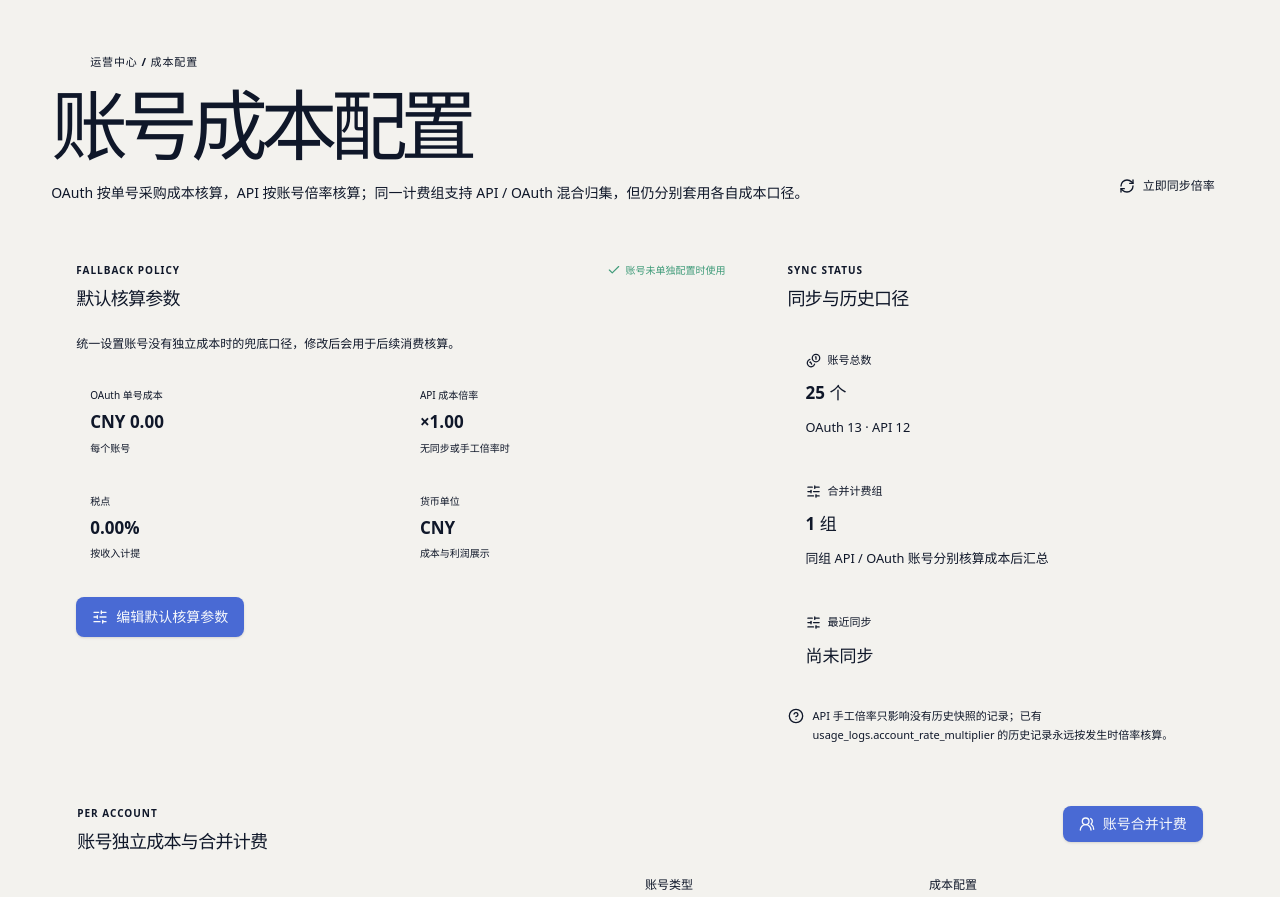
Test: 成本配置列表 › 默认核算参数通过弹窗编辑，取消不会改动已保存摘要
This screenshot has width=1280, height=897.
Expected: the text "CNY 0.00" is shown, 90,410 -> 164,433
Click the button "编辑默认核算参数". click: (160, 617)
box: 76,597 -> 244,637
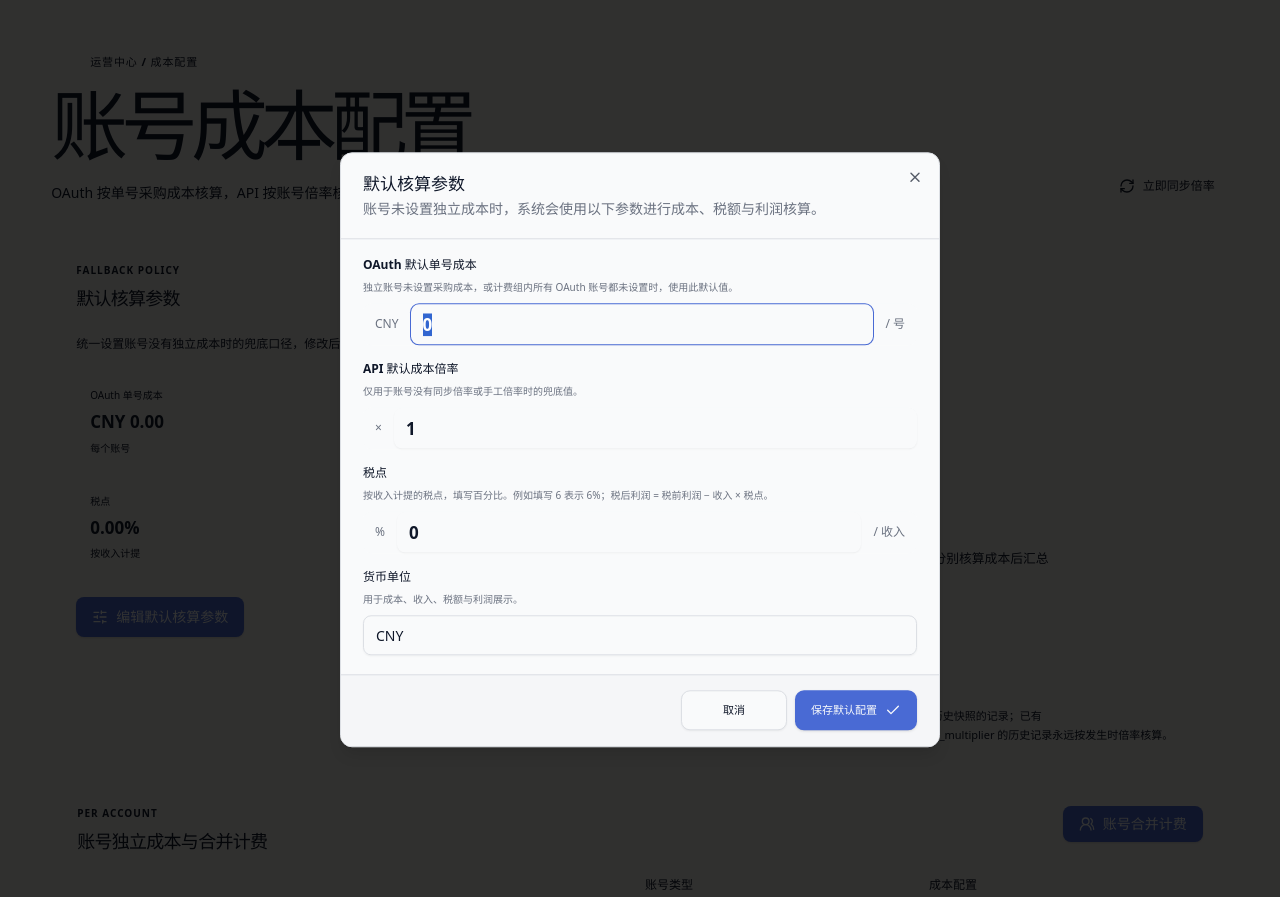
Expected: the number field labelled "OAuth 默认单号成本" holds "0"
Replace the text in the number field labelled "OAuth 默认单号成本" with "12.5". click: (642, 325)
box: 410,305 -> 873,345
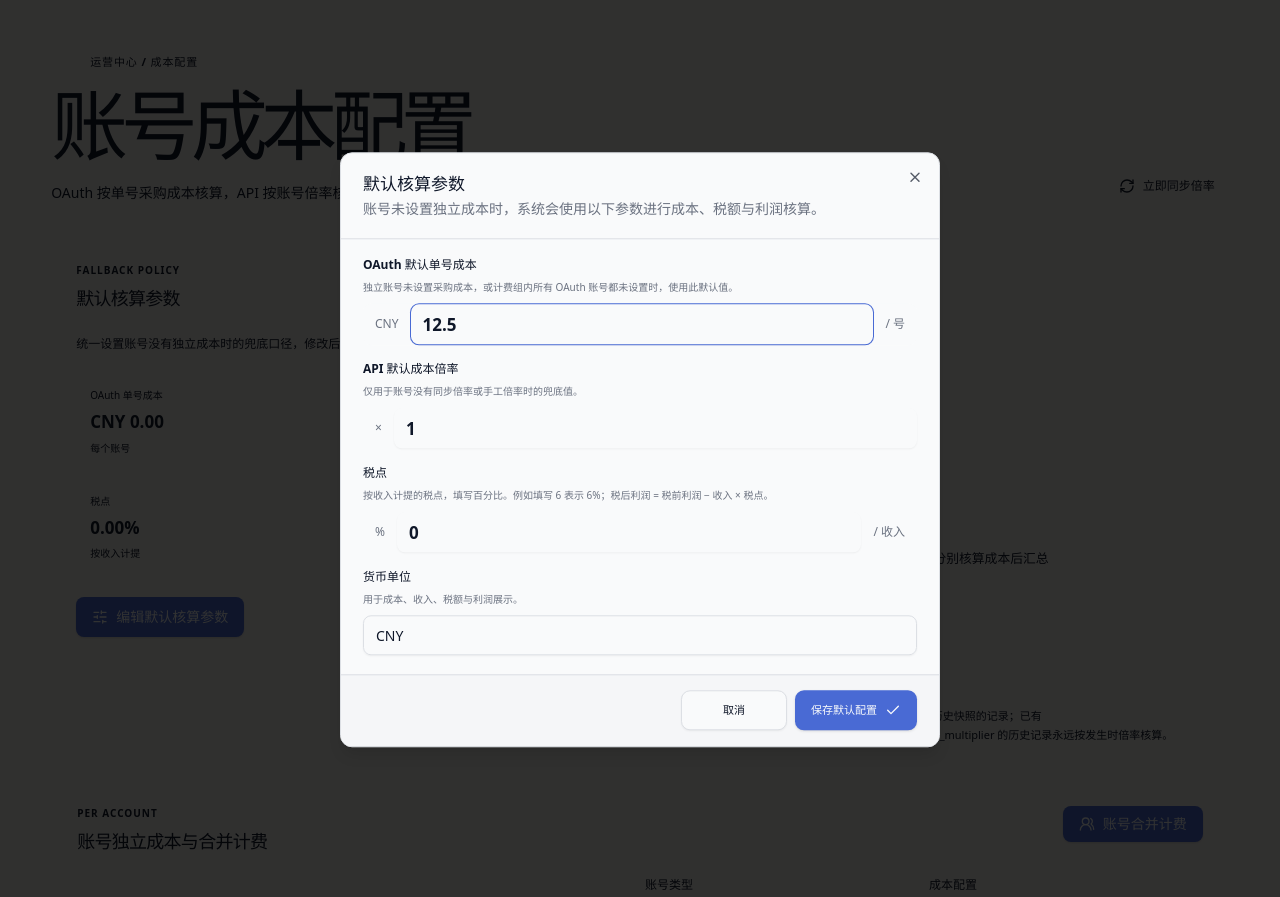
Click the button "取消". click: (734, 711)
box: 681,691 -> 787,731
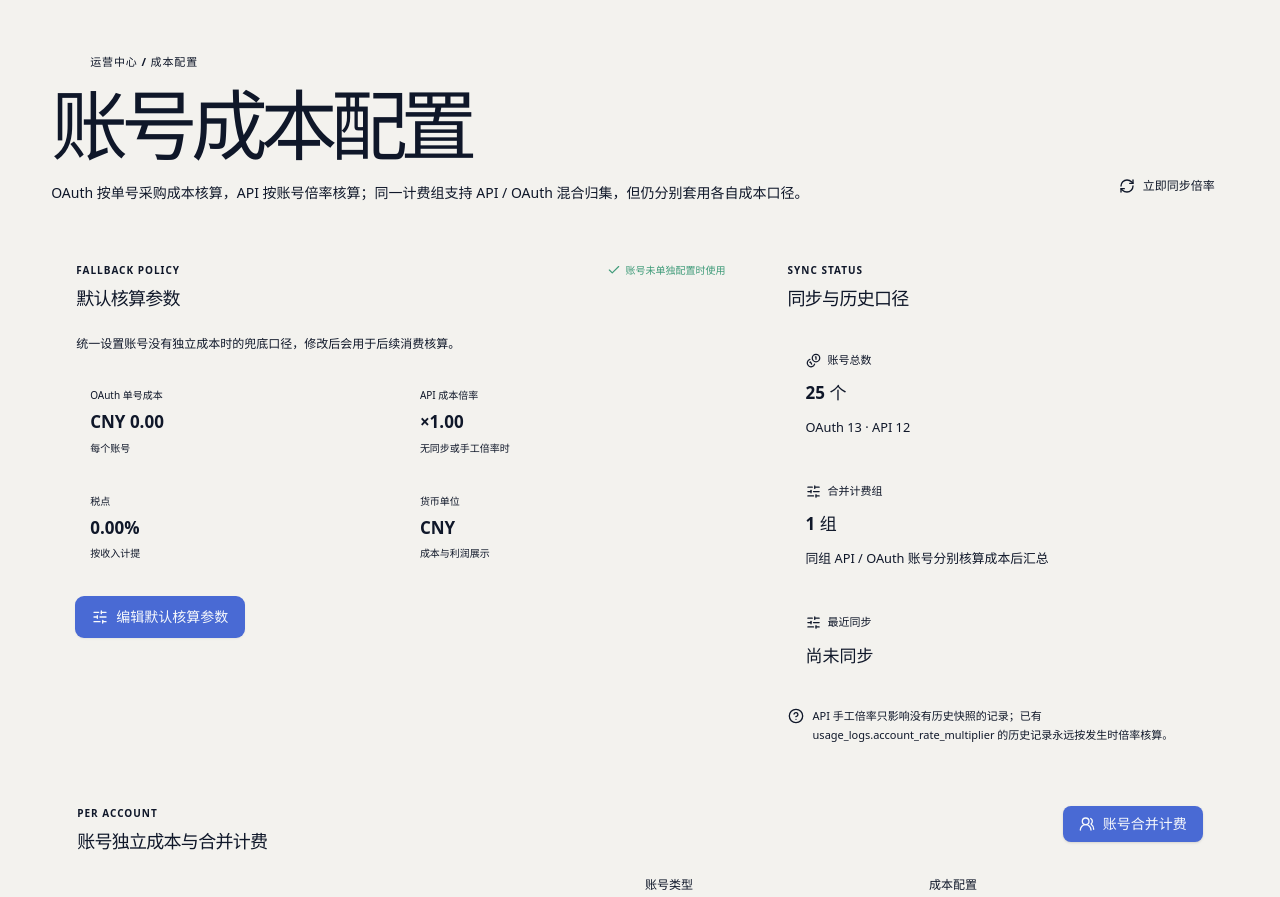
Expected: the text "CNY 0.00" is shown, 90,410 -> 164,433
Click the button "编辑默认核算参数". click: (160, 617)
box: 76,597 -> 244,637
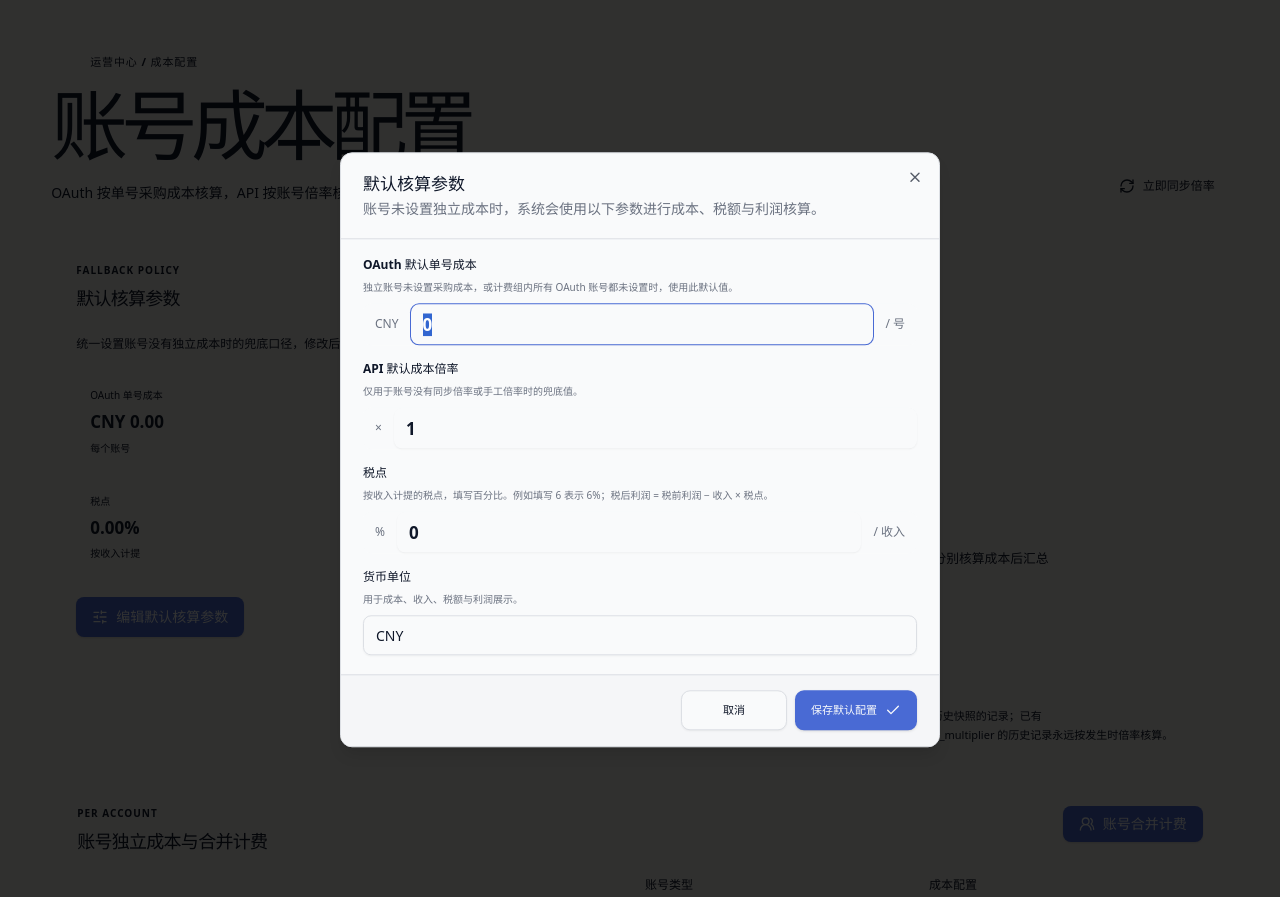
Replace the text in the number field labelled "OAuth 默认单号成本" with "12.5". click: (642, 325)
box: 410,305 -> 873,345
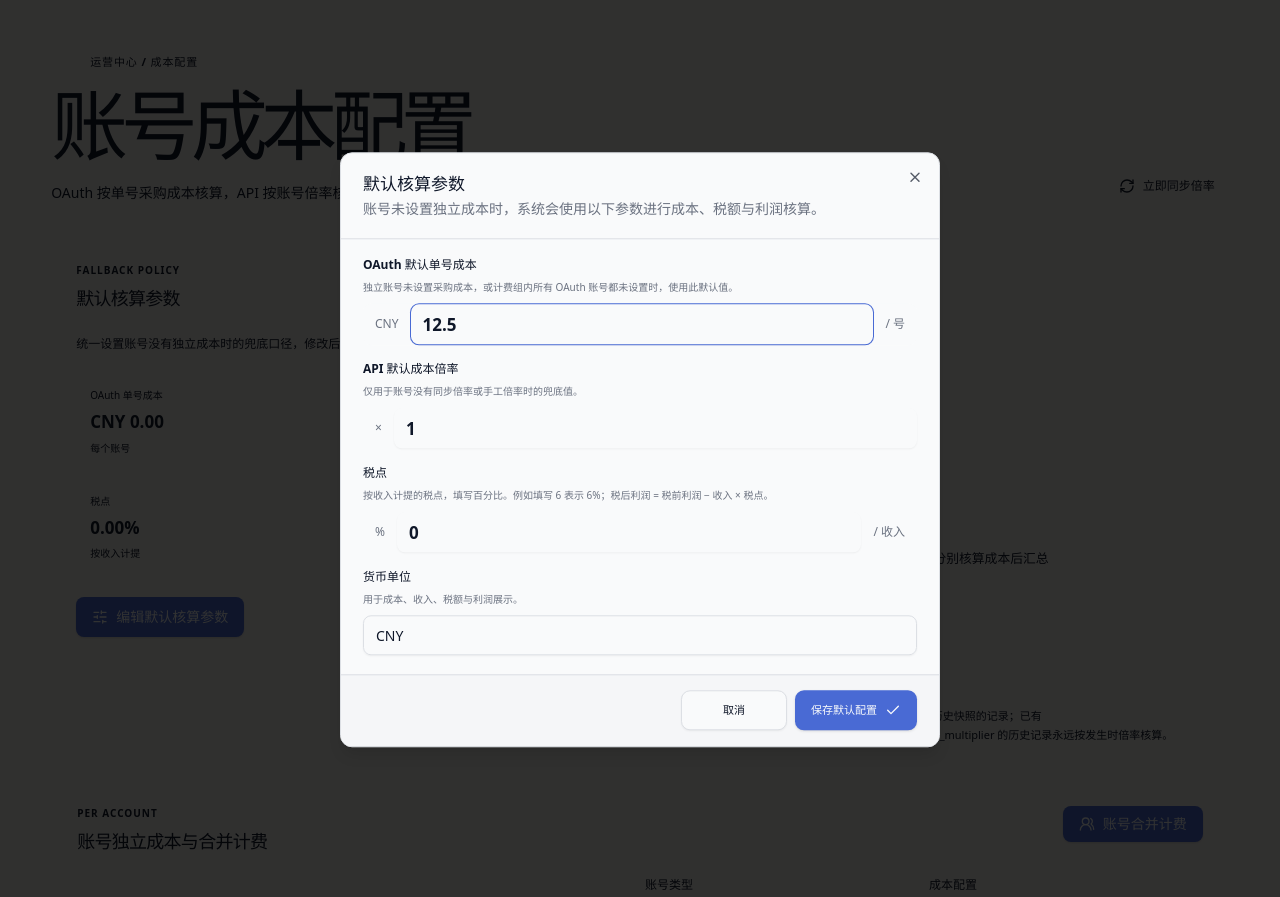
Click the button "保存默认配置". click: (856, 711)
box: 795,691 -> 917,731
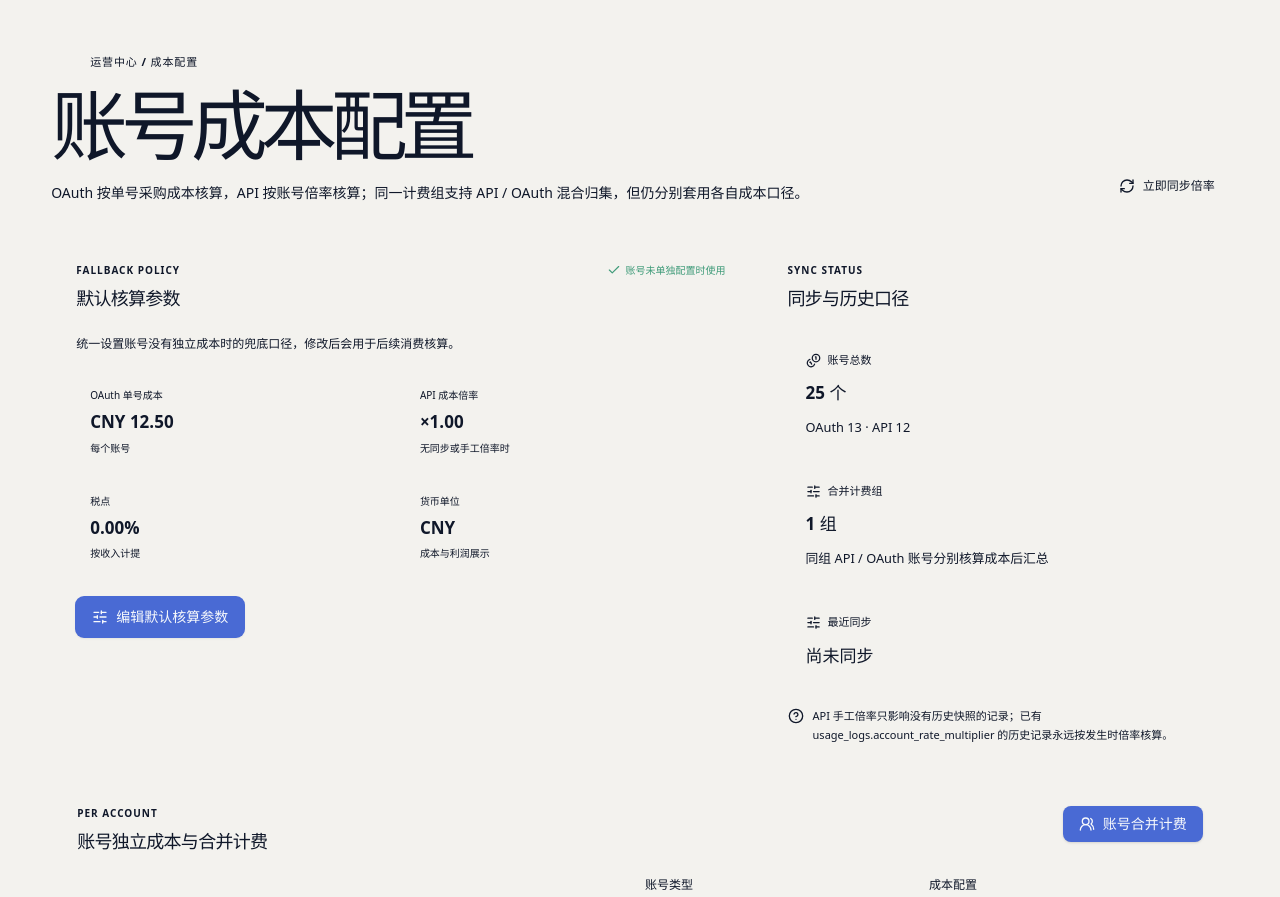
Expected: the text "CNY 12.50" is shown, 90,410 -> 174,433
